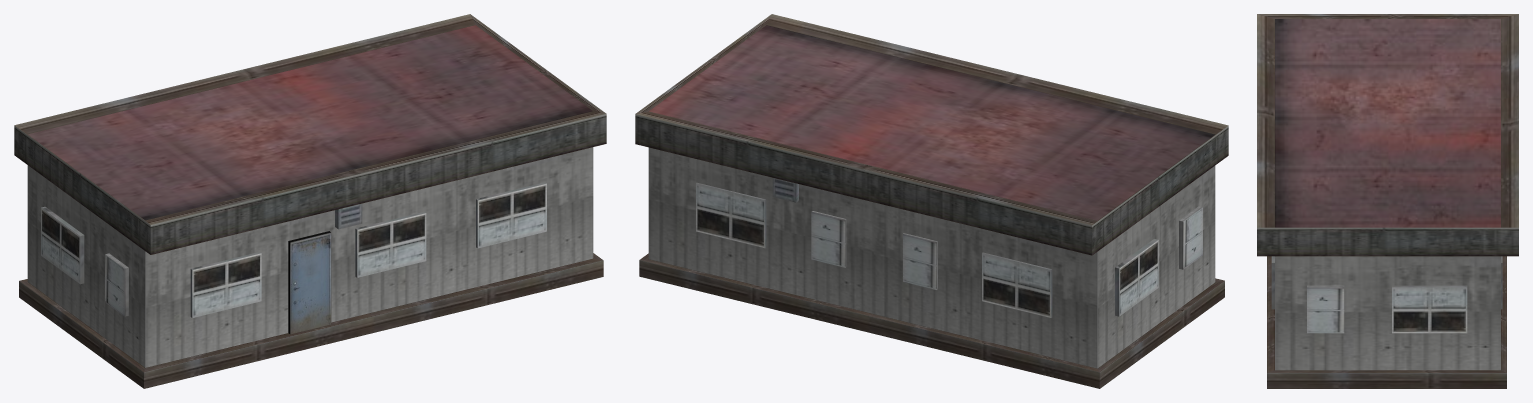
Rendered from shed_trailer.glb.
3 renders of one model, left to right at view 1: azimuth 30°, elevation 25°; view 2: azimuth 150°, elevation 25°; view 3: azimuth 270°, elevation 25°, orthographic. The views are drawn at different scales.
Parts seen in each view (by area): view 1: shed_trailer; view 2: shed_trailer; view 3: shed_trailer.
Boxes of the visible parts, bbox=[...] form: shed_trailer: bbox=[14, 14, 606, 388]; shed_trailer: bbox=[635, 14, 1228, 388]; shed_trailer: bbox=[1257, 14, 1518, 388].
Bounding box in the file's own units: 1.2 × 0.4176 × 0.6171.
Materials: 2 (2 with a texture image).
